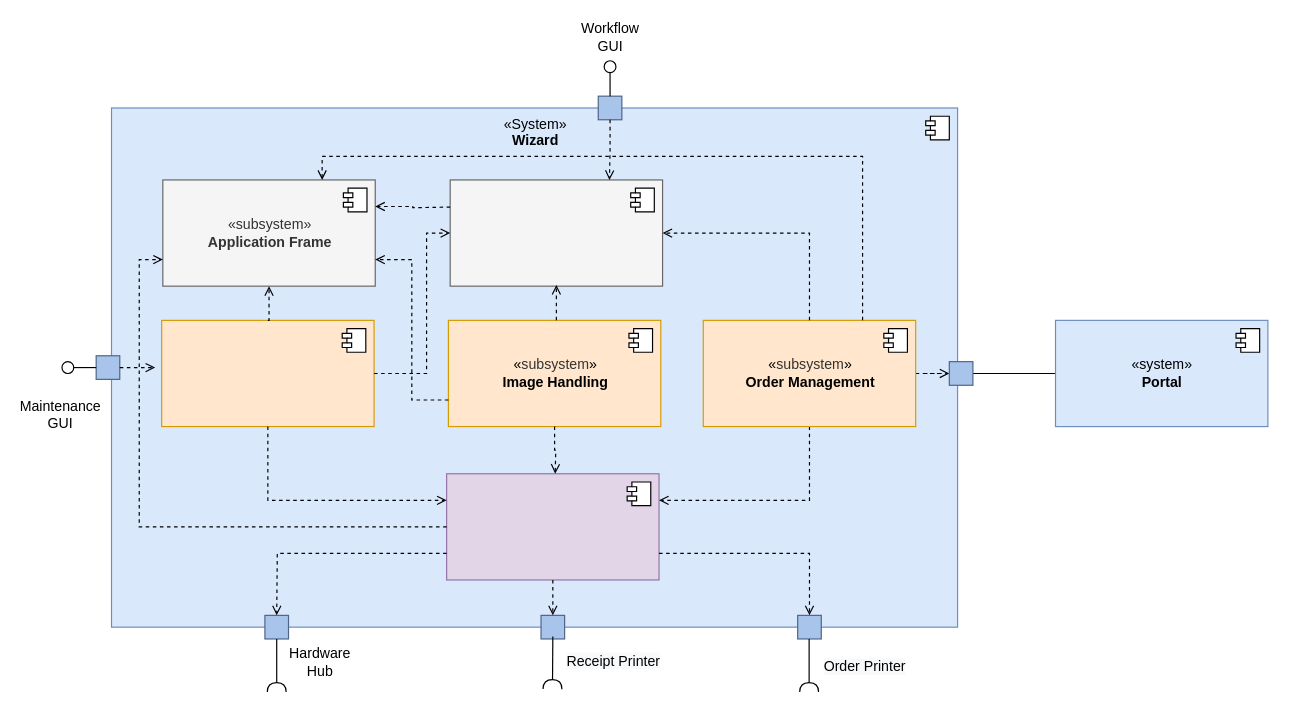
Image size: 1289x722. Some labels were removed from this diagram. Here are the shapes that lost their labels. From the top down, the centre of each, then its label:
the point at 556,232: «subsystem» Workflow Management
the point at 267,373: « subsystem » Maintenance Management
the point at 552,526: « subsystem » Hardware Management
